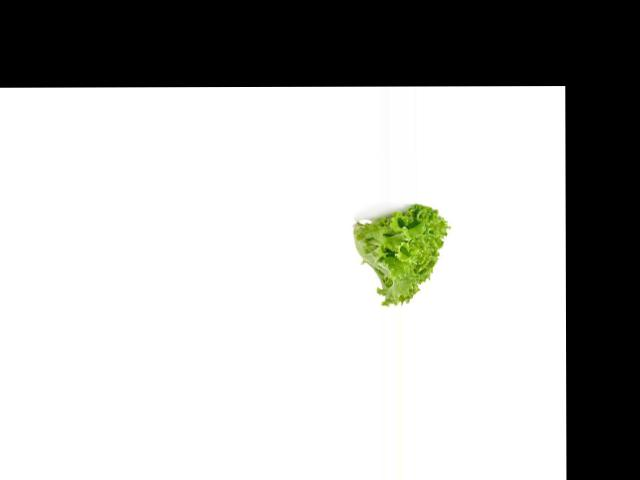lettuce: (346, 204, 455, 309)
